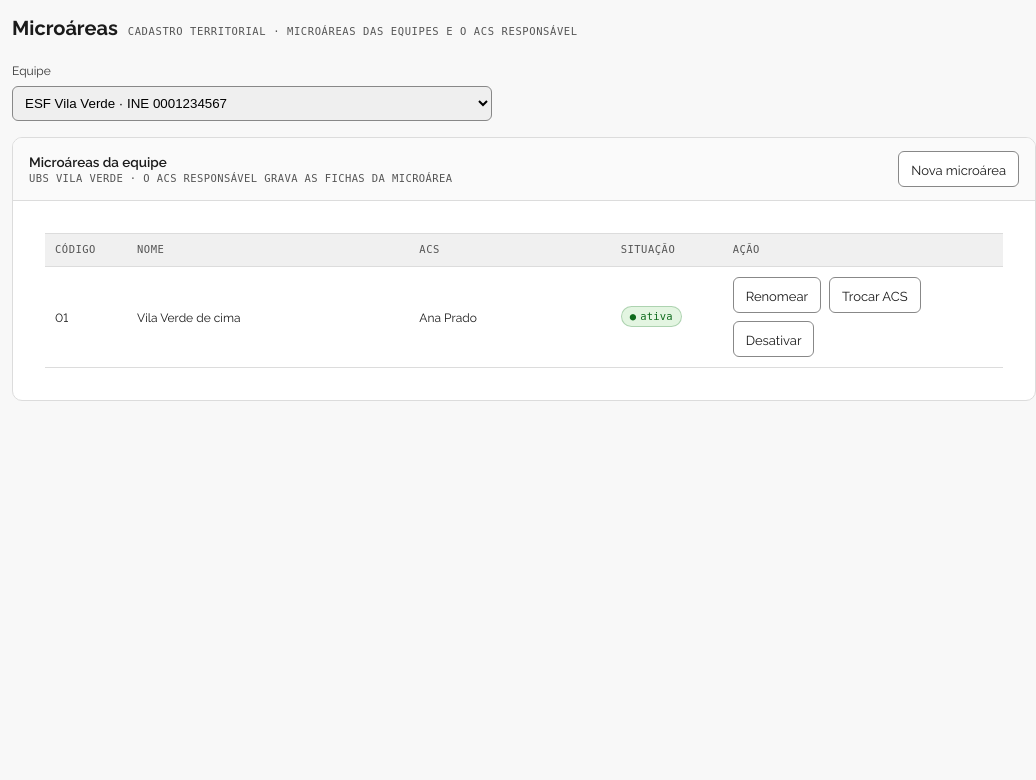
TerritoryMicroAreas › renomear para o mesmo nome ou trocar pelo mesmo ACS: 'nada mudou' antes do step-up; nada é enviado
Click the button with aria-label "Renomear 01". click: click(777, 295)
box: [733, 277, 821, 313]
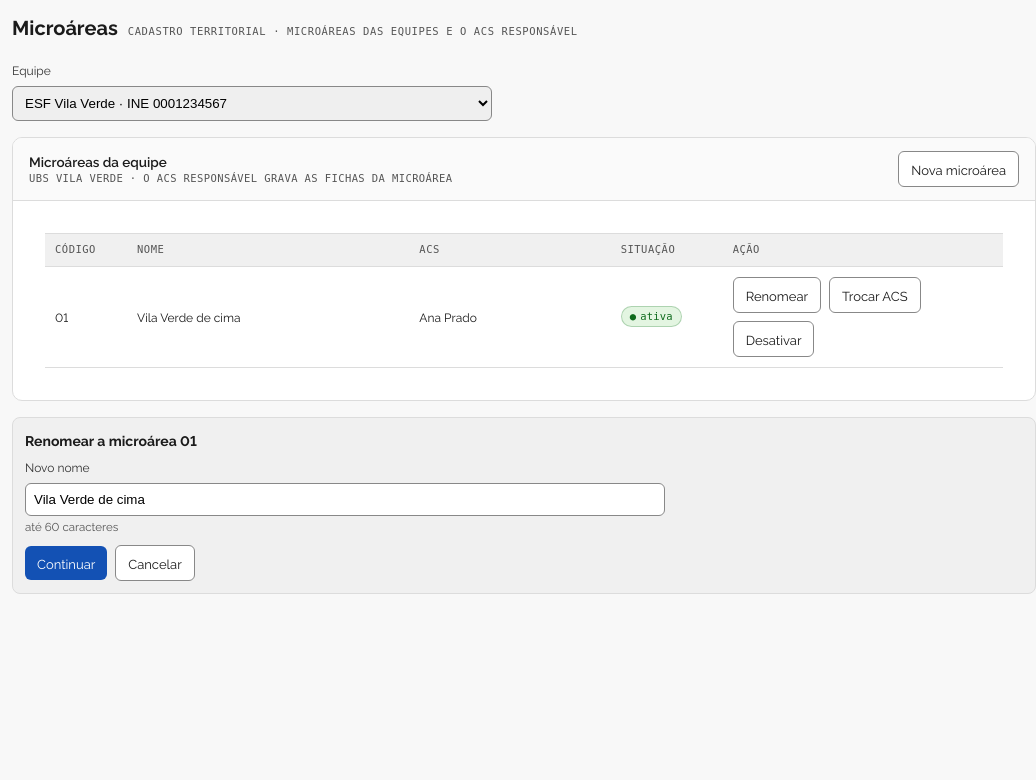
Replace the text in the field labelled "Novo nome" with "  Vila Verde de cima ". click: (345, 500)
box: [25, 483, 665, 516]
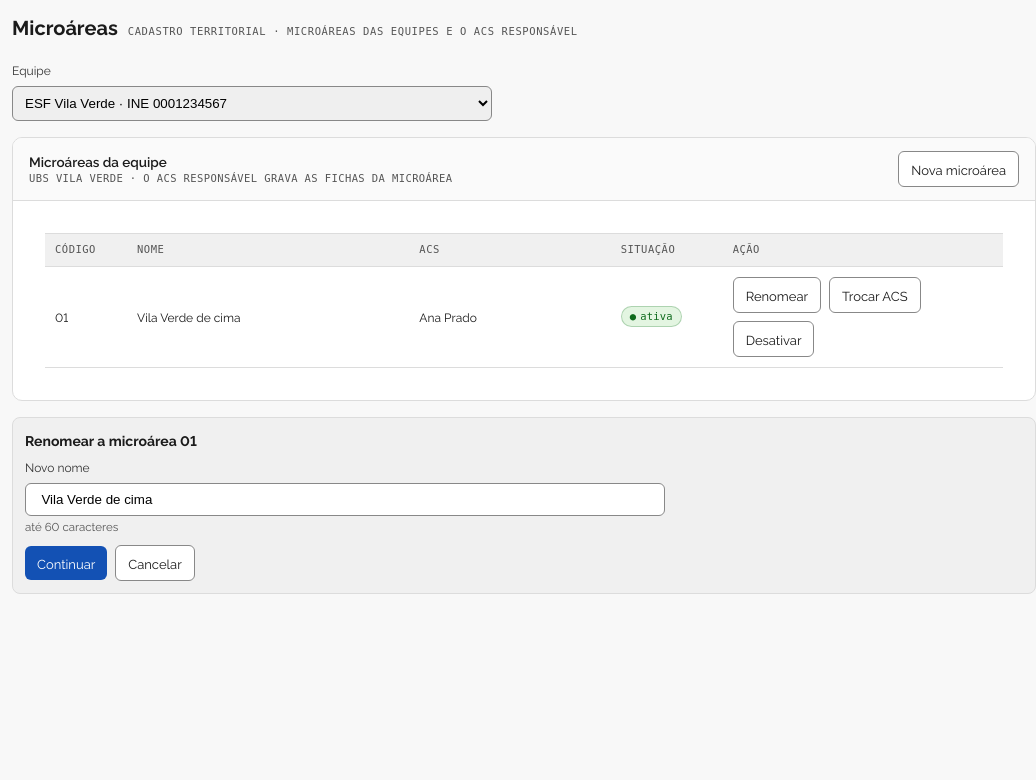
Click the button "Continuar". click: click(66, 563)
box: [25, 546, 107, 580]
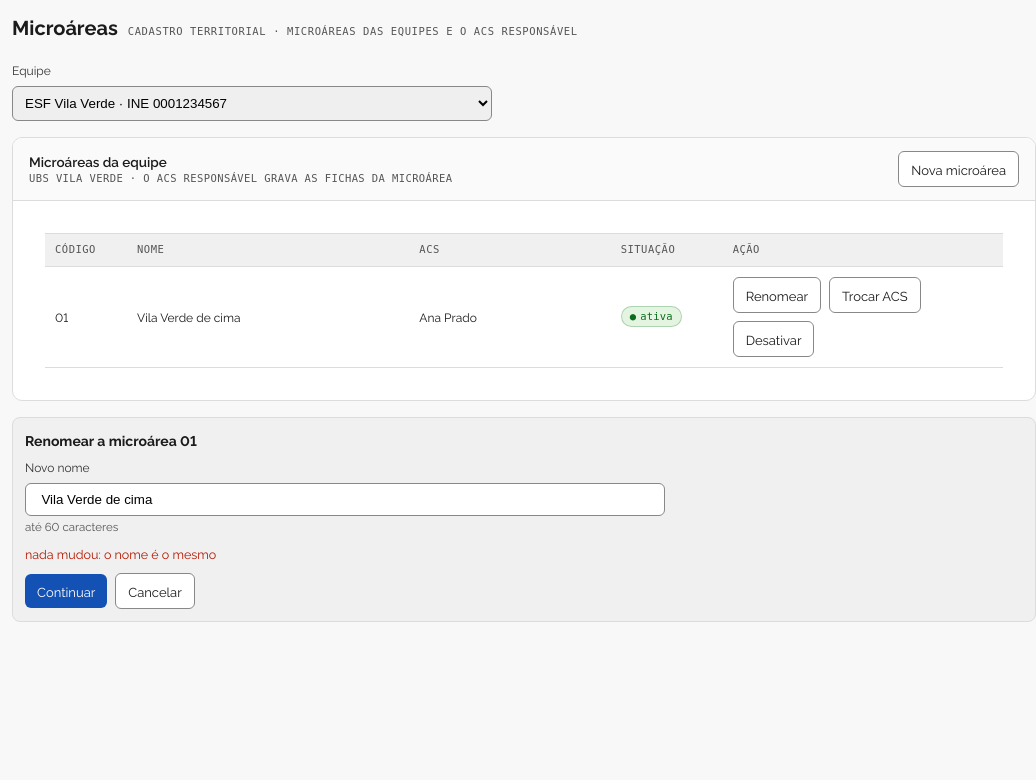
Expected: the message reads "nada mudou: o nome é o mesmo", [25, 545, 216, 562]
Click the button "Cancelar". click: click(155, 591)
box: [115, 573, 195, 609]
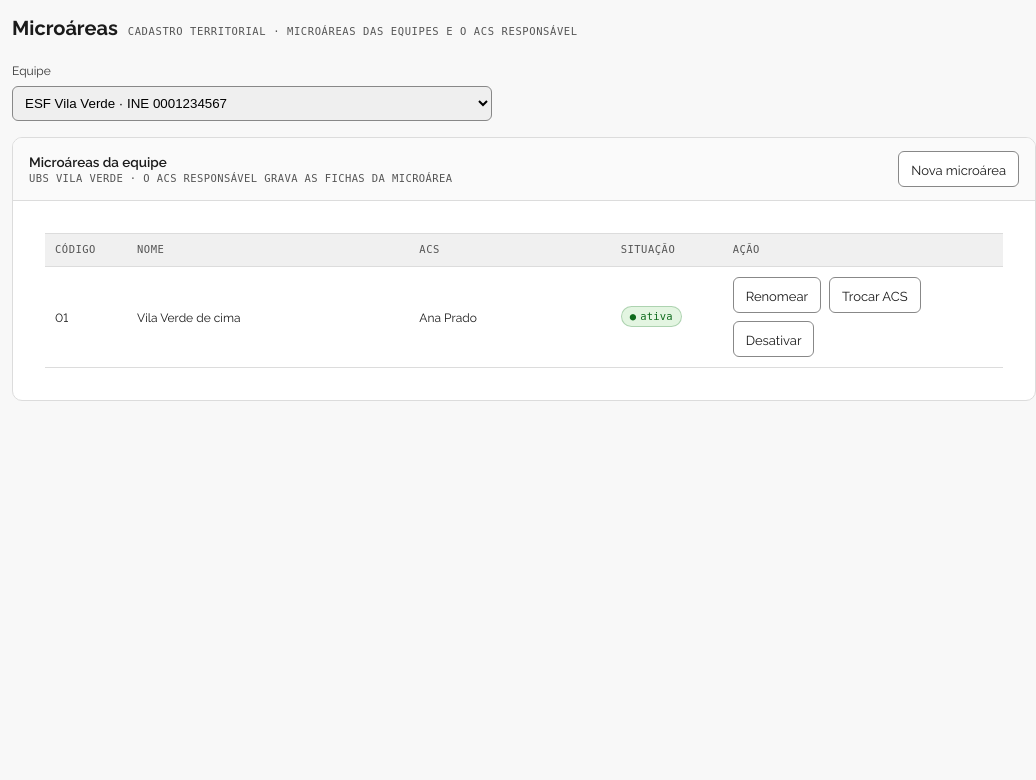
Click the button with aria-label "Trocar ACS 01". click: click(875, 295)
box: [829, 277, 921, 313]
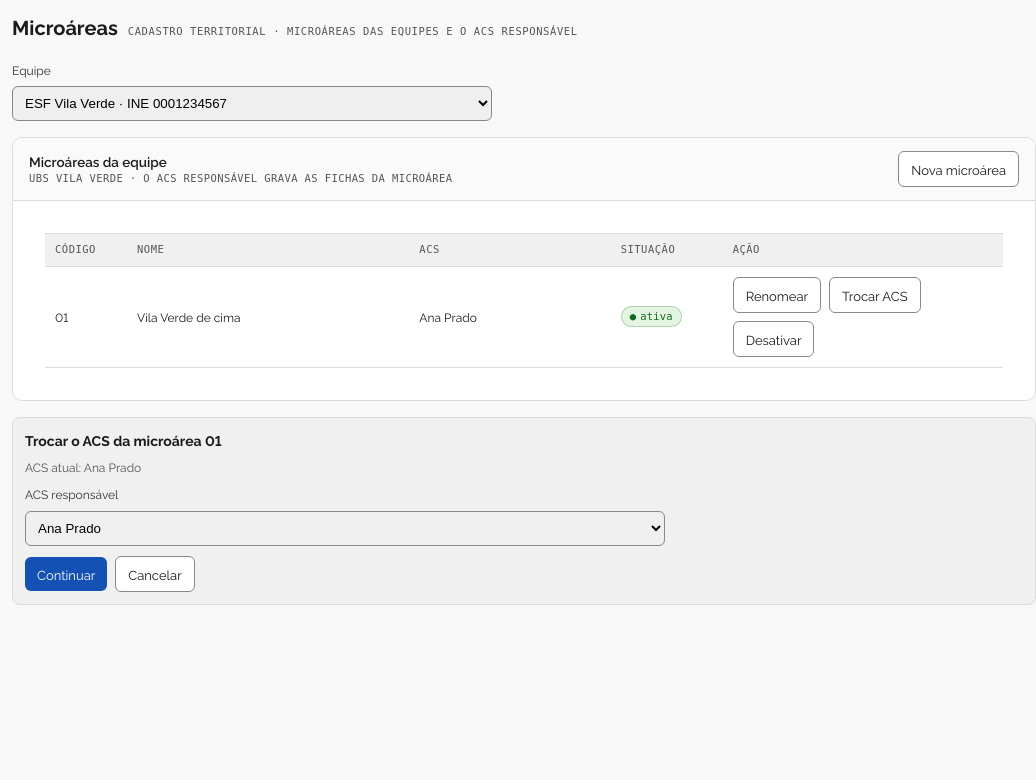
Expected: the dropdown labelled "ACS responsável" shows "Ana Prado", [25, 511, 665, 546]
Click the button "Continuar". click: click(66, 574)
box: [25, 557, 107, 591]
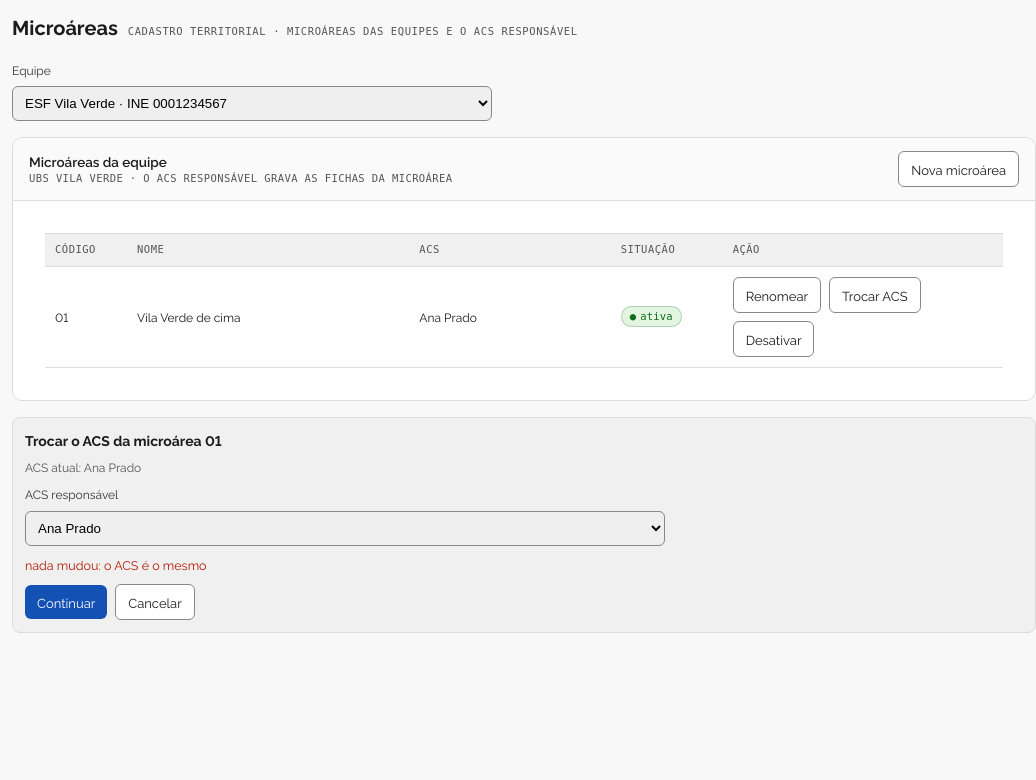
Expected: the message reads "nada mudou: o ACS é o mesmo", [25, 556, 207, 573]
